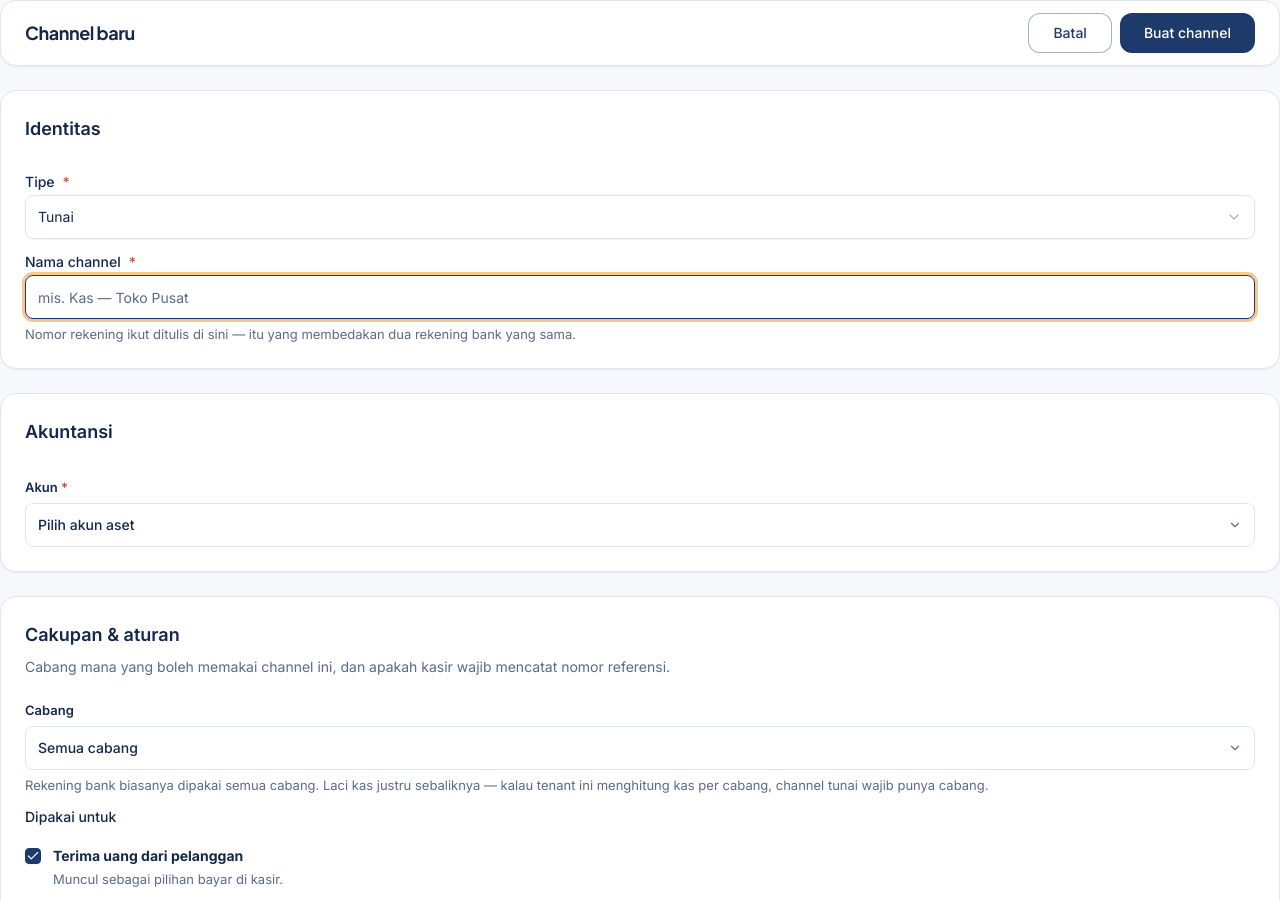
Test: PaymentChannelForm — the MDR field only exists where a fee is deducted › appears for QRIS
What coordinates should you click on to do the following:
click the dropdown named "tipe"
I would click on:
 (56, 216)
Its box is [25,195,1255,239].
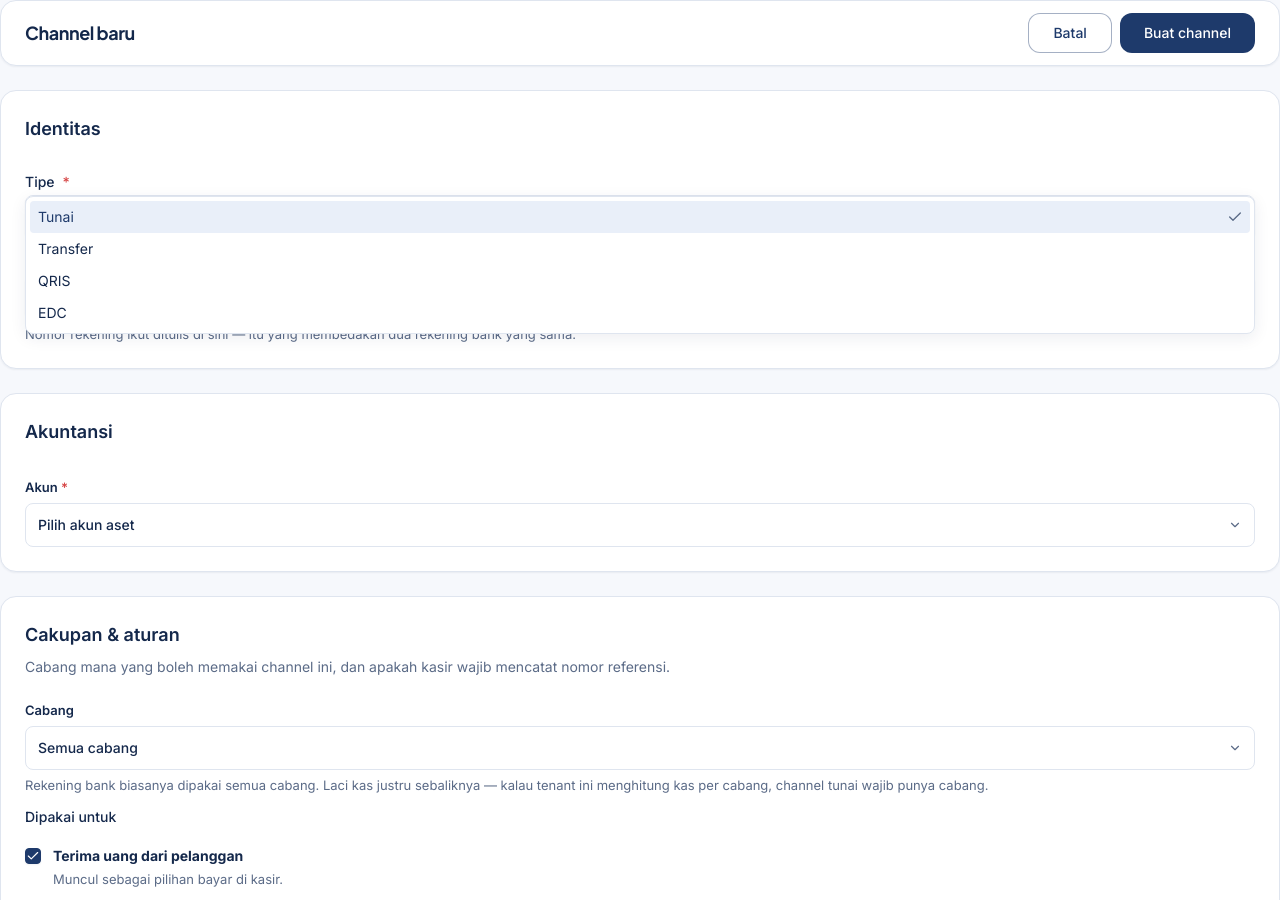
What coordinates should you click on to do the following:
click the option "QRIS"
I would click on:
 (54, 280)
Its box is [38,272,70,289].
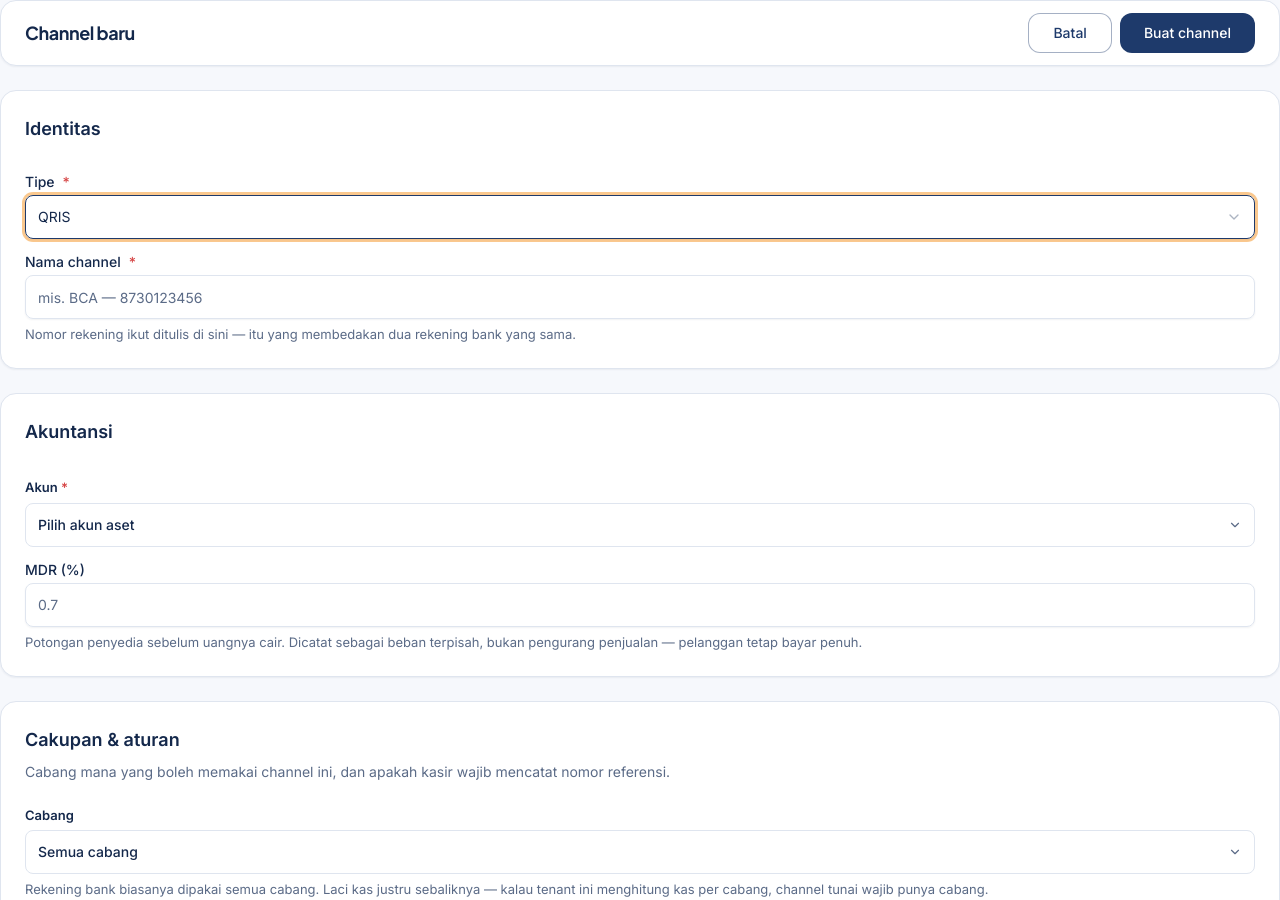
Expected: the field labelled "MDR (%)" is shown, [25,583,1255,627]
